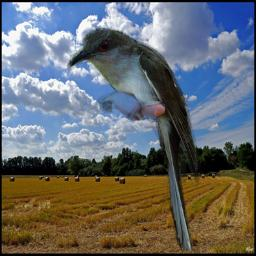Cuckoo: (67, 28, 203, 251)
